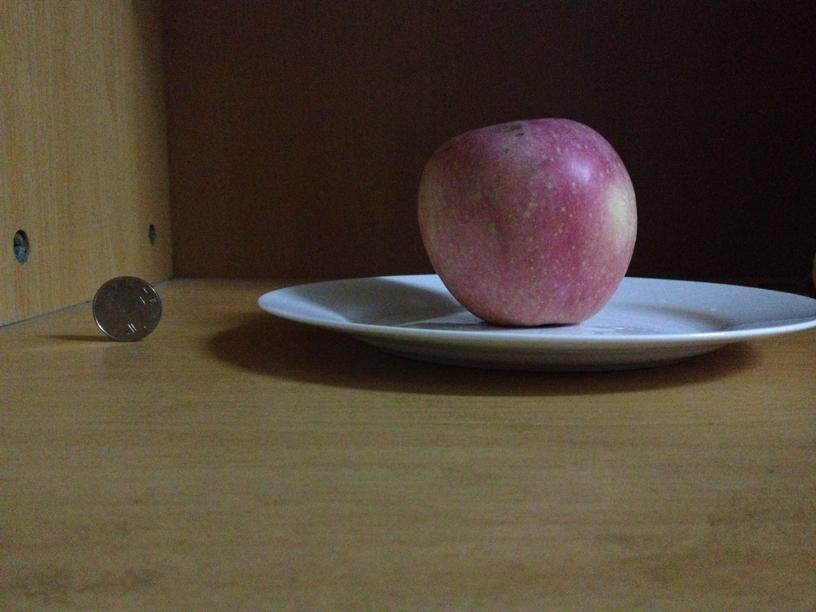apple: (414, 120, 637, 326)
coin: (92, 276, 162, 341)
